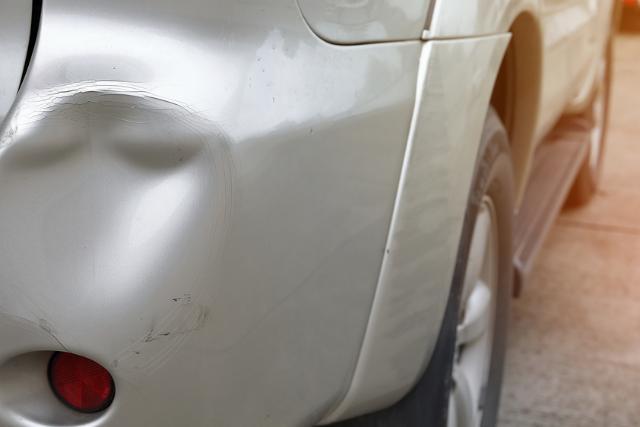Bumper: (0, 51, 242, 340)
